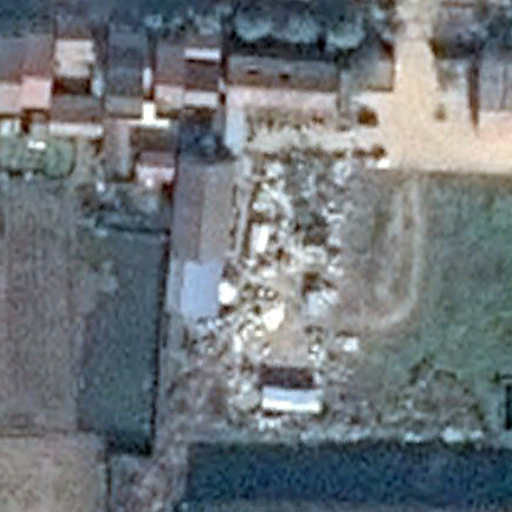msw: (212, 152, 344, 376)
